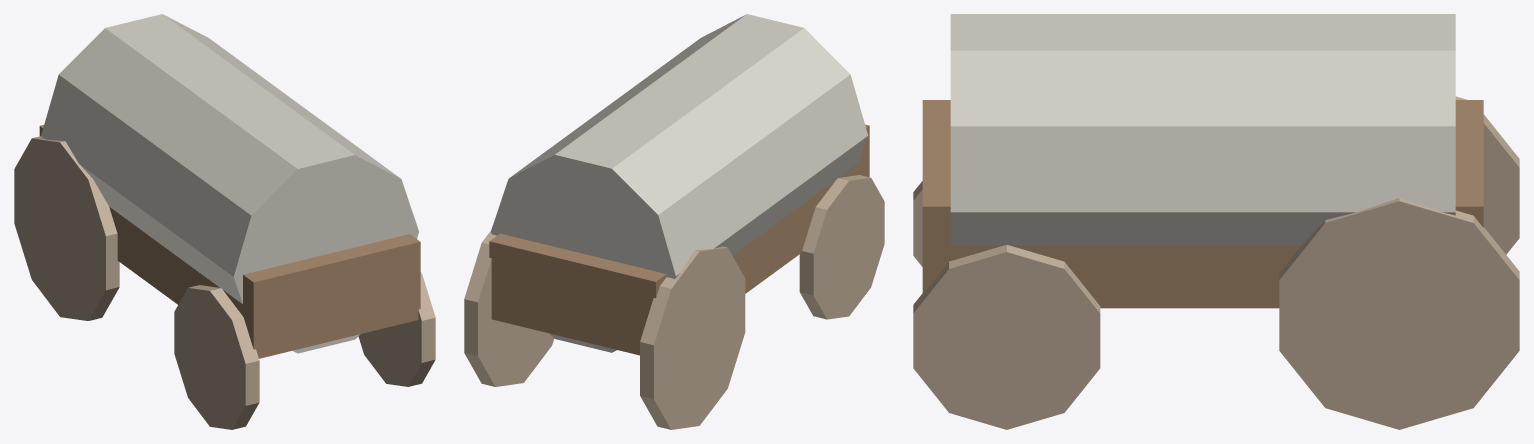
The model's file is w_planwagen.glb.
The picture shows the model from 3 angles, left to right: view 1: azimuth 30°, elevation 25°; view 2: azimuth 150°, elevation 25°; view 3: azimuth 270°, elevation 25°; orthographic projection. The views are drawn at different scales.
Visible parts, largest first — view 1: koerper; view 2: koerper; view 3: koerper.
Boxes of the visible parts, x1,y1,x2,y2 form: koerper: (14, 14, 435, 429); koerper: (464, 14, 884, 429); koerper: (913, 14, 1519, 429).
Size of the model in its own units: 2.05 by 2.65 by 4.32.
